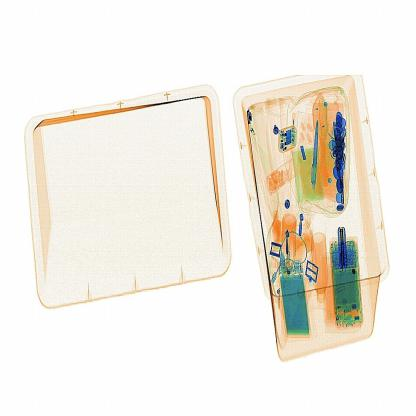scissors: (339, 224, 350, 277)
